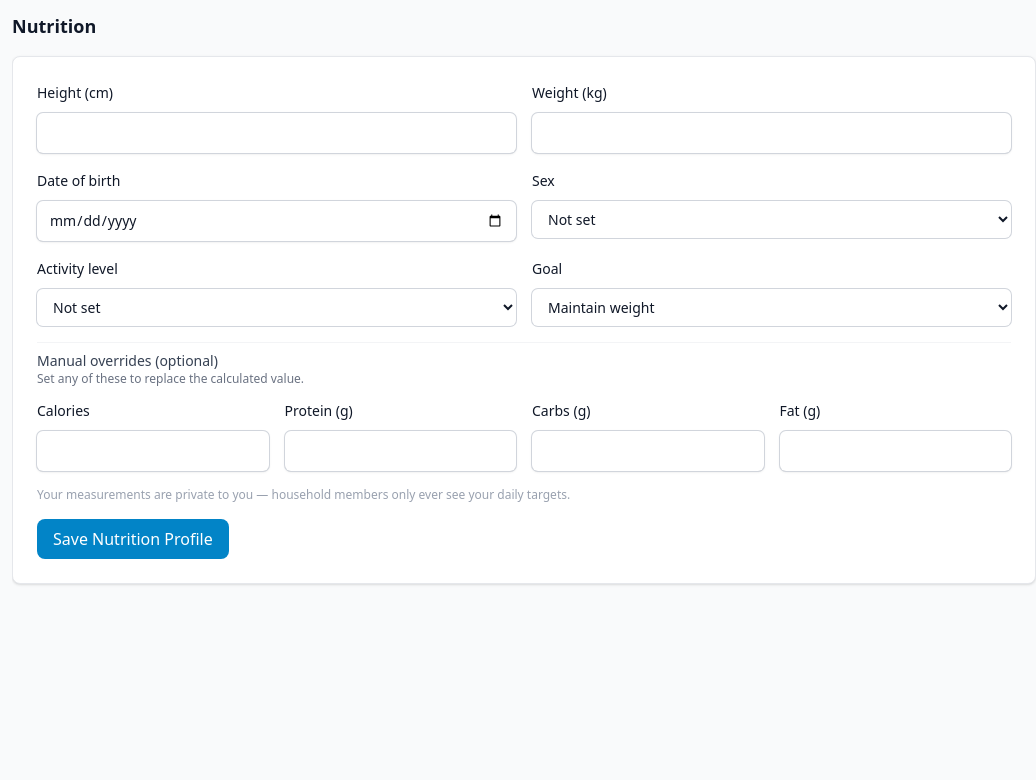
Test case: NutritionProfileSection › rejects an out-of-range height with a field error and does not save
The image size is (1036, 780).
Type "20" into the number field labelled "Height (cm)" at (276, 133), box [37,113,516,153]
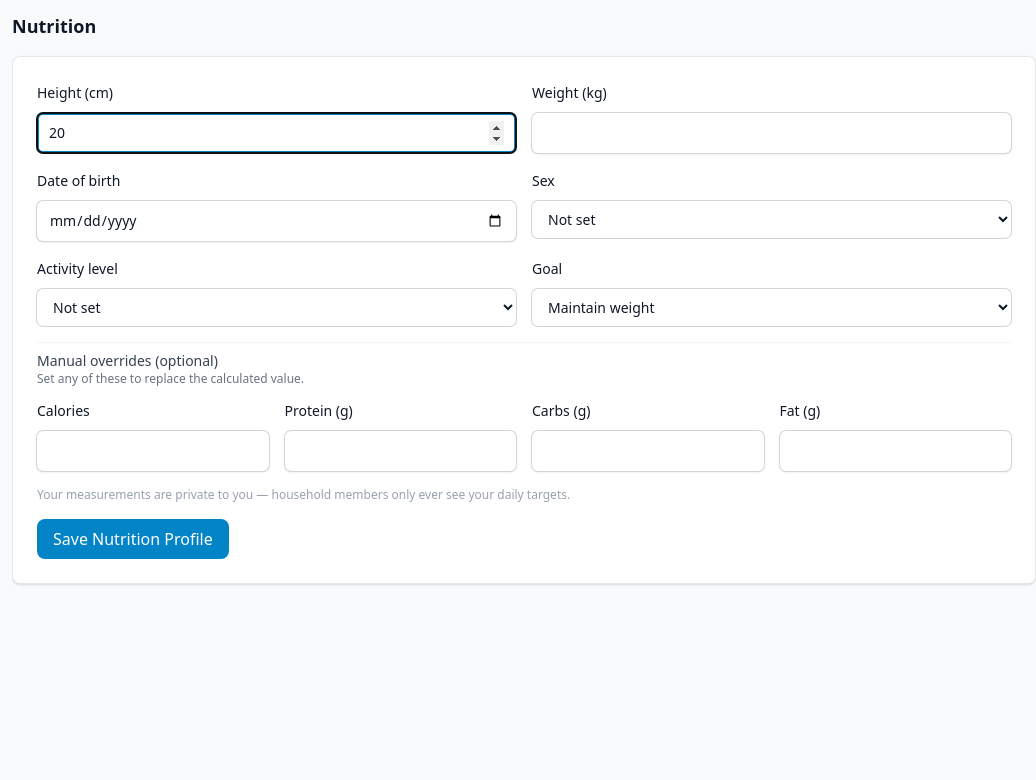
Click the button "Save Nutrition Profile" at (133, 539), box [37,519,229,559]
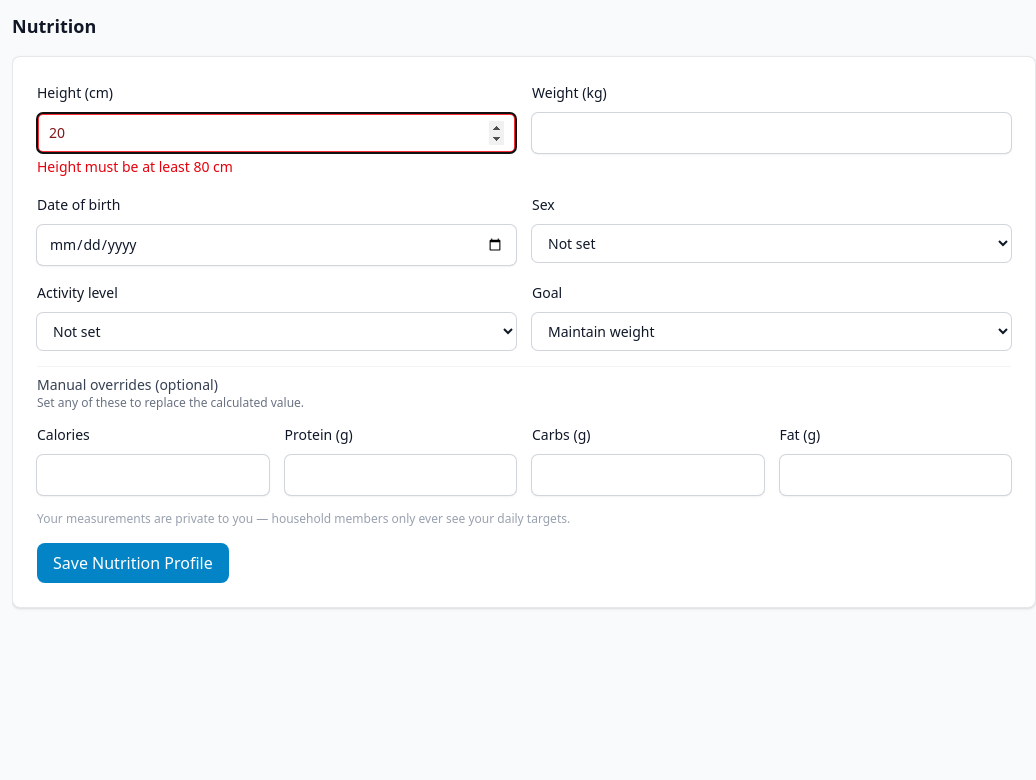
expect the text "Height must be at least 80 cm" is shown: met, box [37,157,233,176]
